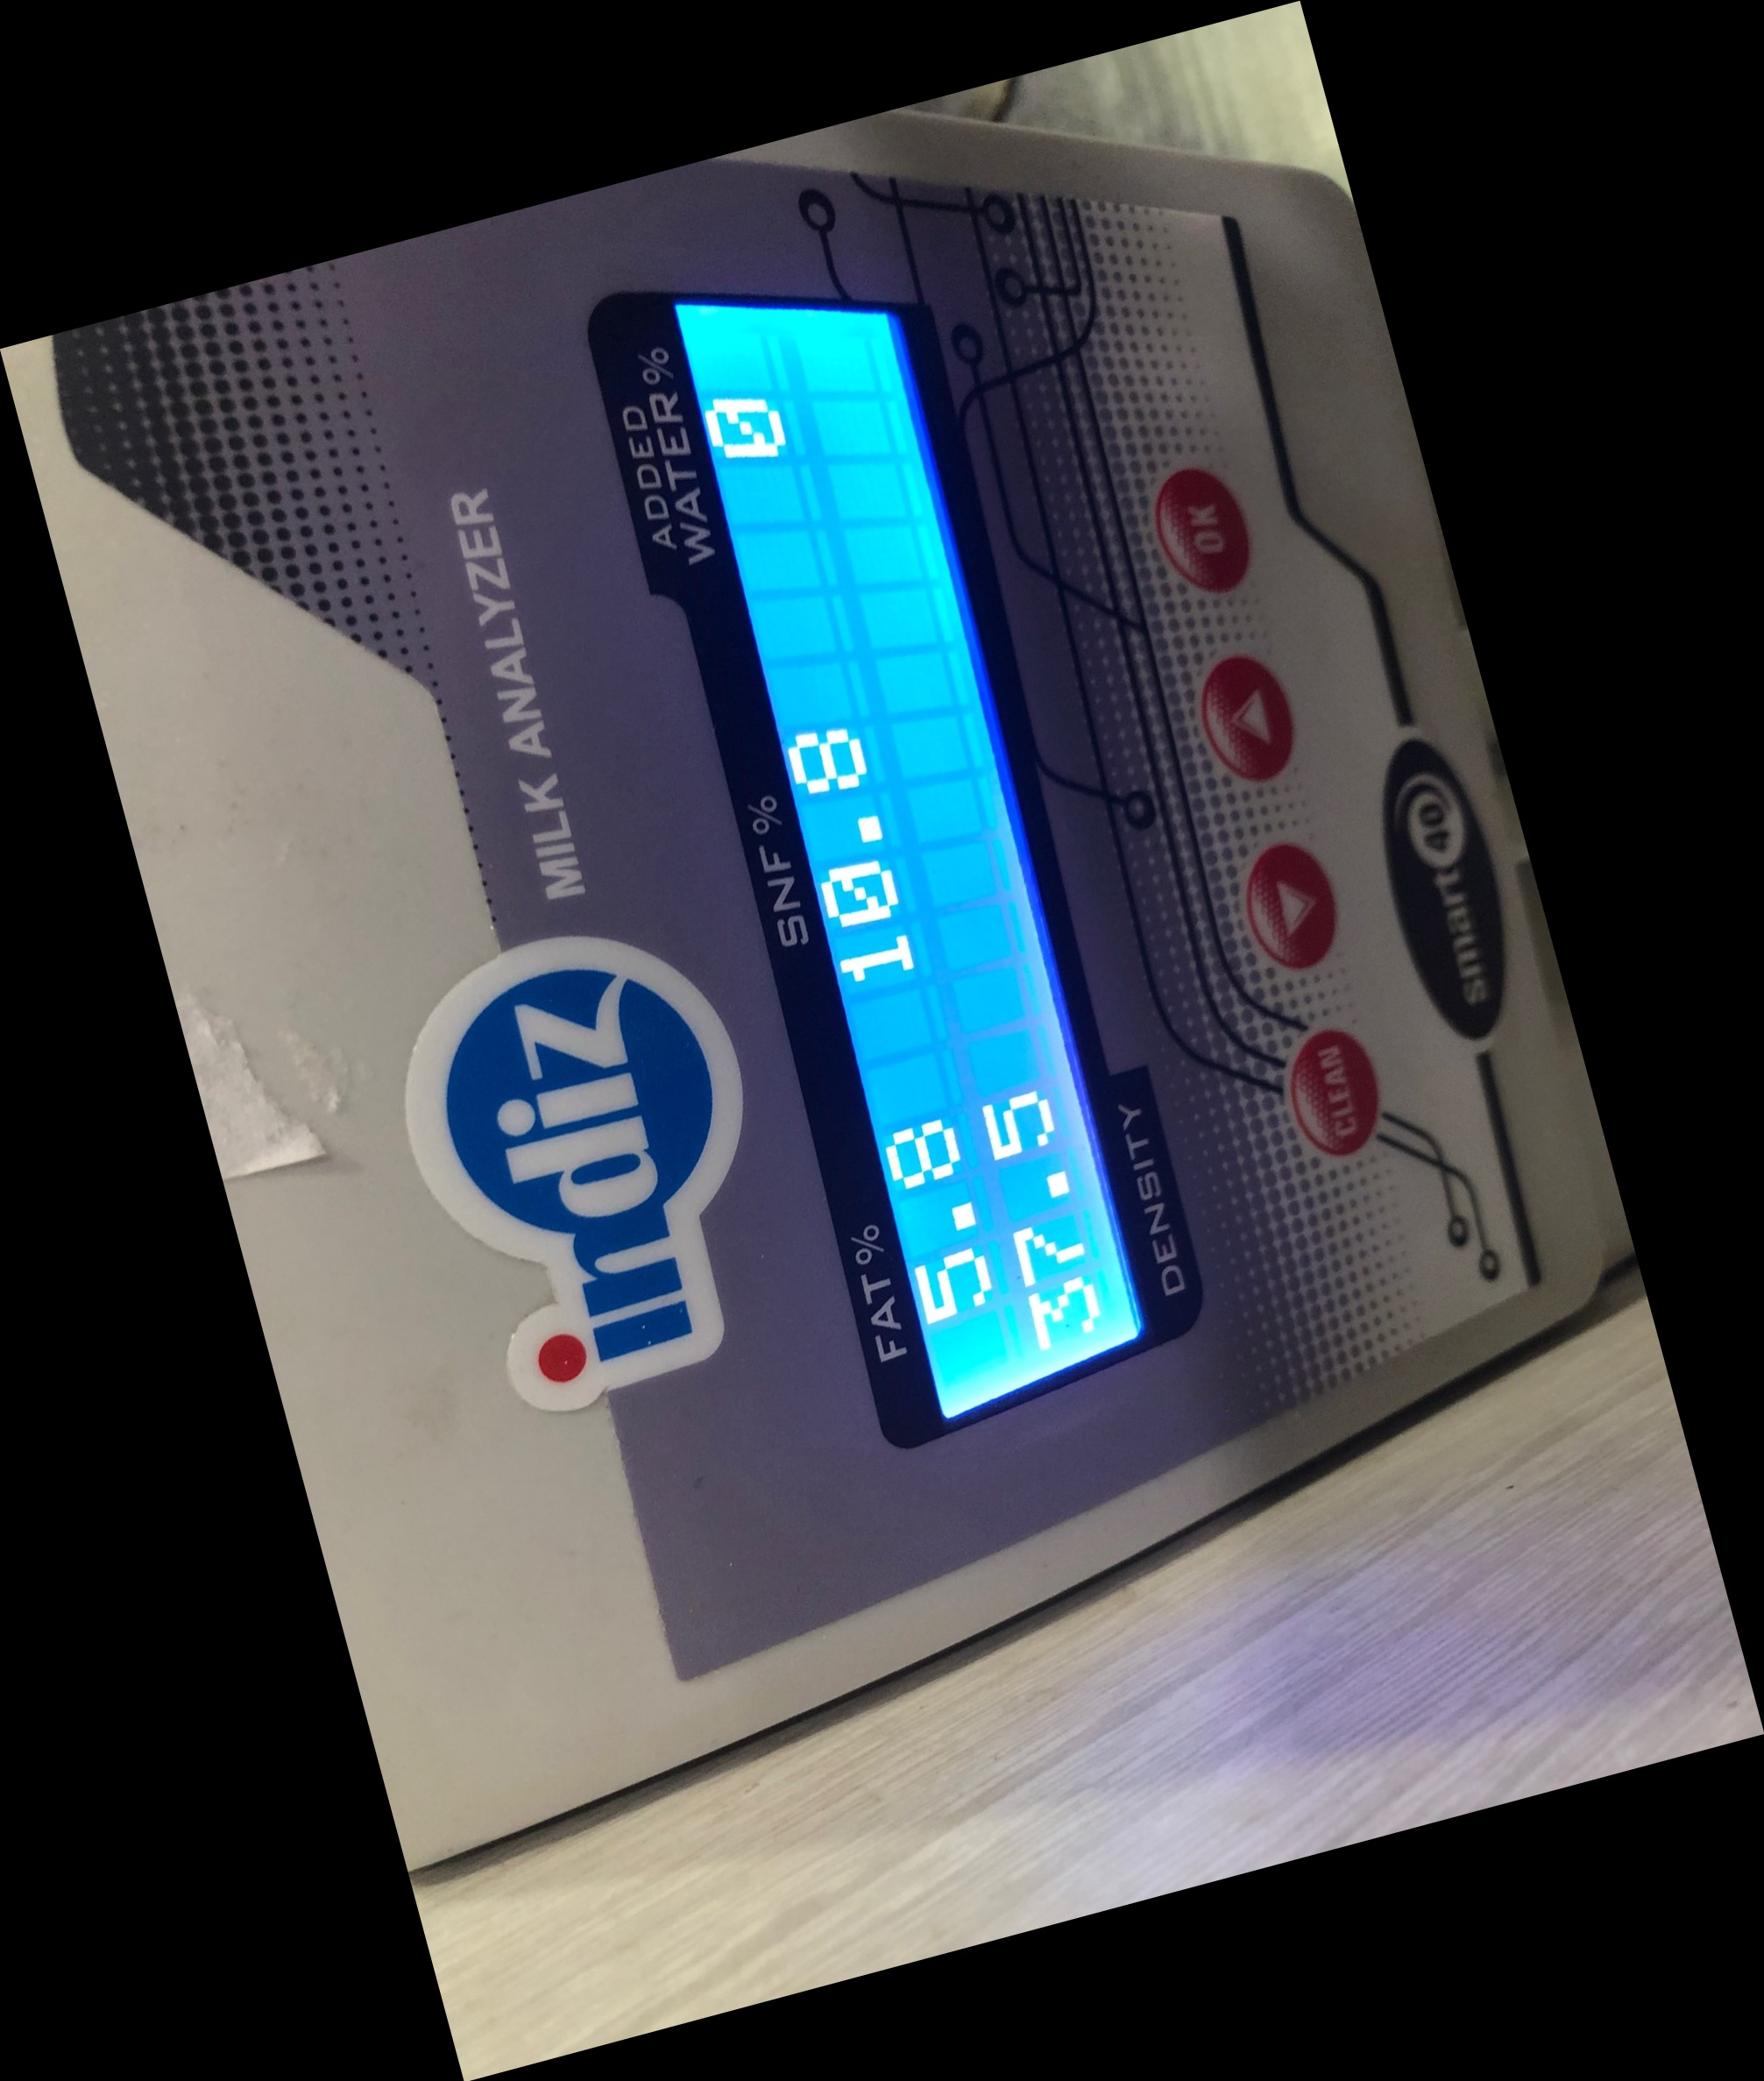lcd: (584, 257, 1218, 1488)
